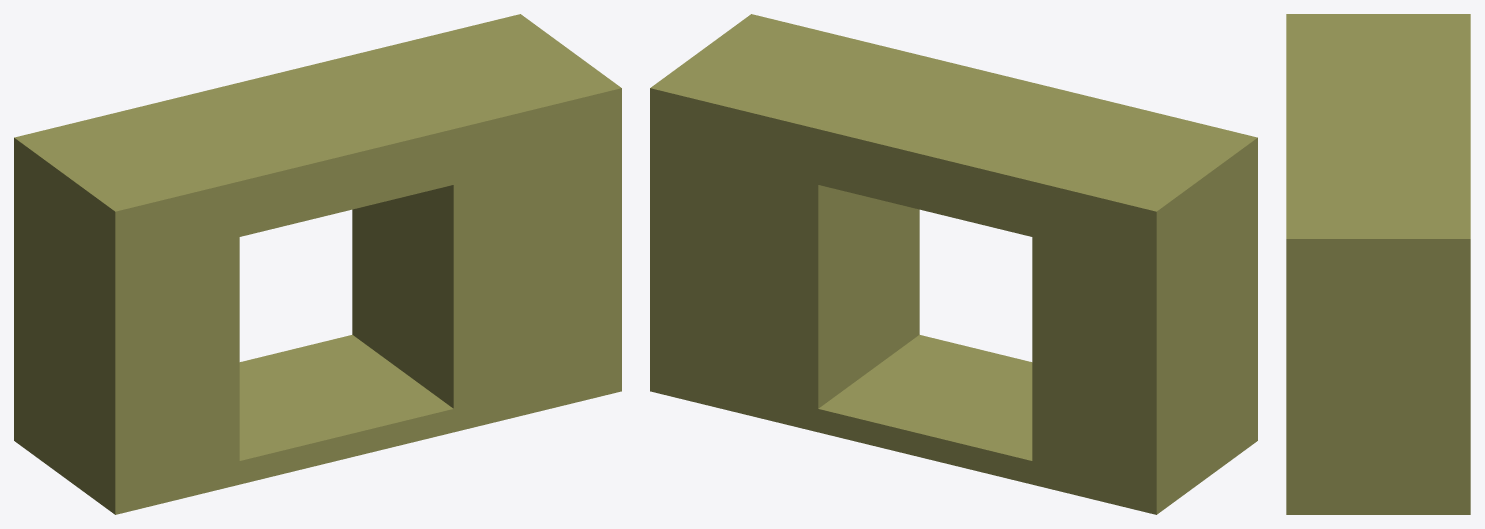
The model's file is OBJ_GREGS-SK6812MINI-E-DOWN-POINTING.obj.
3 views of the same model, side by side, from view 1: azimuth 30°, elevation 25°; view 2: azimuth 150°, elevation 25°; view 3: azimuth 270°, elevation 25° (orthographic). The views are drawn at different scales.
Bounding box in the file's own units: 28.88 × 16.52 × 10.
